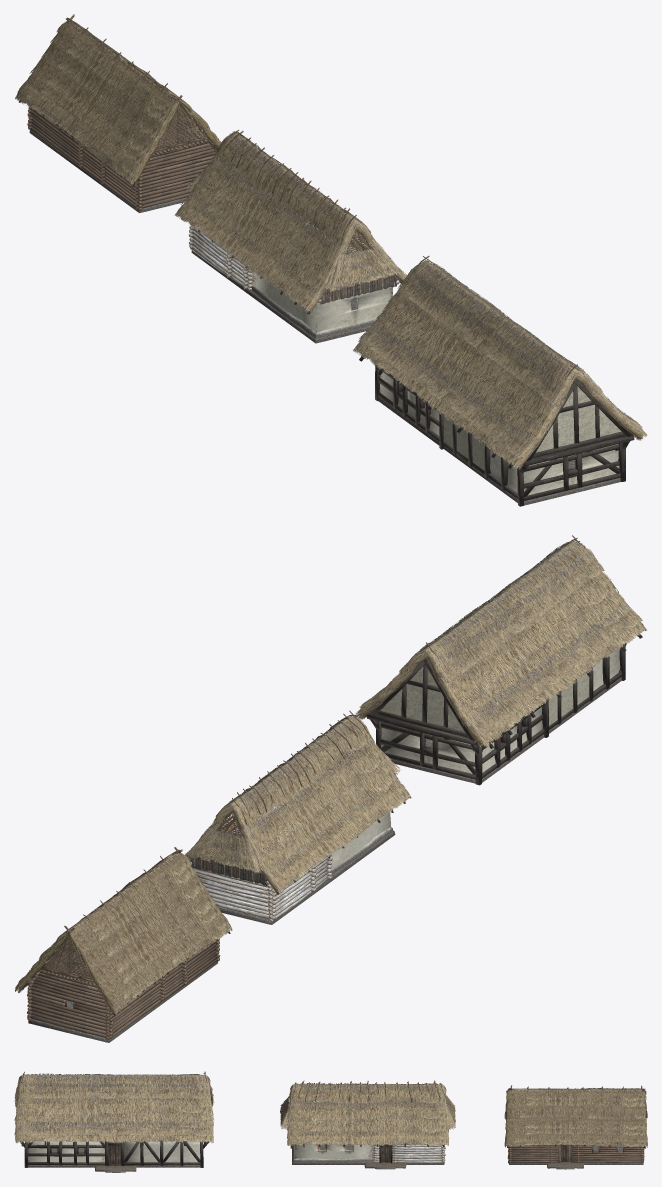
File: thatched_medieval_houses.fbx
3 views of the same model, one above another, from view 1: azimuth 30°, elevation 25°; view 2: azimuth 150°, elevation 25°; view 3: azimuth 270°, elevation 25° (orthographic). The views are drawn at different scales.
Parts seen in each view (by area): view 1: straw_roof_13_001, straw_roof_15_001, straw_roof_11_001, straw_roof_13, straw_roof_15, straw_roof_9, straw_roof_11, straw_roof_17_001, straw_roof_2_002, straw_roof_2_004, straw_roof_h_1_007, wall_1 (+30 smaller); view 2: straw_roof_13_001, straw_roof_15_001, straw_roof_11_001, straw_roof_13, straw_roof_15, straw_roof_9, straw_roof_17_001, straw_roof_11, straw_roof_2_002, straw_roof_2_004, straw_roof_h_1_007, straw_roof_h_1_008 (+30 smaller); view 3: straw_roof_5_001, straw_roof_5, straw_roof_7_001, straw_roof_7, straw_roof_3_001, straw_roof_1, straw_roof_3, straw_roof_2_003, straw_roof_8_001, straw_roof_2_001, straw_roof_1_001, straw_roof_h_1_004 (+43 smaller).
Boxes of the visible parts, x1=… form: straw_roof_13_001: x1=382, y1=293, x2=564, y2=431; straw_roof_15_001: x1=404, y1=262, x2=578, y2=405; straw_roof_11_001: x1=370, y1=308, x2=548, y2=449; straw_roof_13: x1=198, y1=157, x2=347, y2=275; straw_roof_15: x1=213, y1=133, x2=358, y2=254; straw_roof_9: x1=174, y1=194, x2=324, y2=312; straw_roof_11: x1=188, y1=180, x2=331, y2=294; straw_roof_17_001: x1=406, y1=260, x2=579, y2=394; straw_roof_2_002: x1=359, y1=321, x2=536, y2=459; straw_roof_2_004: x1=397, y1=269, x2=569, y2=405; straw_roof_h_1_007: x1=29, y1=55, x2=159, y2=159; wall_1: x1=251, y1=241, x2=392, y2=332; straw_roof_13_001: x1=436, y1=572, x2=618, y2=708; straw_roof_15_001: x1=426, y1=541, x2=595, y2=682; straw_roof_11_001: x1=451, y1=590, x2=629, y2=726; straw_roof_13: x1=240, y1=740, x2=388, y2=856; straw_roof_15: x1=232, y1=715, x2=374, y2=833; straw_roof_9: x1=261, y1=778, x2=411, y2=894; straw_roof_17_001: x1=421, y1=540, x2=593, y2=673; straw_roof_11: x1=258, y1=761, x2=398, y2=874; straw_roof_2_002: x1=467, y1=600, x2=639, y2=738; straw_roof_2_004: x1=434, y1=549, x2=602, y2=683; straw_roof_h_1_007: x1=88, y1=887, x2=217, y2=988; straw_roof_h_1_008: x1=80, y1=873, x2=206, y2=972; straw_roof_5_001: x1=16, y1=1097, x2=213, y2=1118; straw_roof_5: x1=288, y1=1102, x2=448, y2=1123; straw_roof_7_001: x1=18, y1=1074, x2=210, y2=1098; straw_roof_7: x1=290, y1=1084, x2=446, y2=1105; straw_roof_3_001: x1=15, y1=1110, x2=213, y2=1129; straw_roof_1: x1=287, y1=1128, x2=448, y2=1145; straw_roof_3: x1=287, y1=1117, x2=448, y2=1133; straw_roof_2_003: x1=17, y1=1082, x2=210, y2=1097; straw_roof_8_001: x1=18, y1=1074, x2=209, y2=1090; straw_roof_2_001: x1=14, y1=1120, x2=213, y2=1135; straw_roof_1_001: x1=15, y1=1124, x2=213, y2=1143; straw_roof_h_1_004: x1=507, y1=1088, x2=645, y2=1107.
Bounding box in the file's own units: 984 × 882 × 6323.
